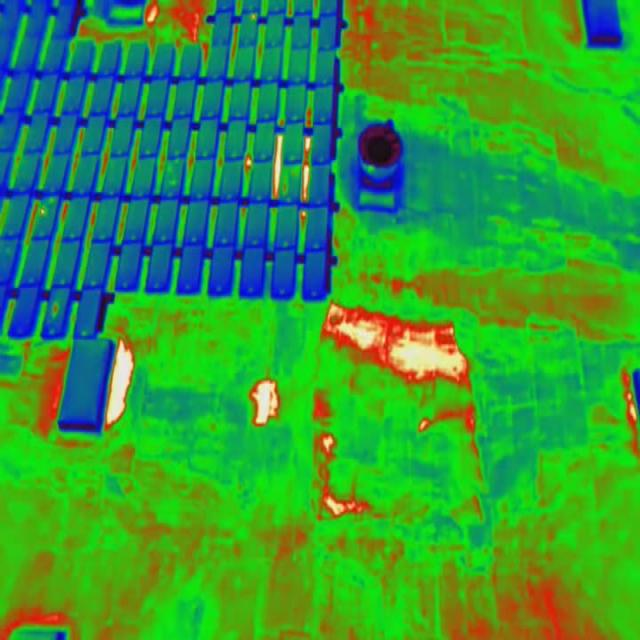Orange-Spots: (282, 176, 287, 196), (52, 302, 58, 318), (40, 208, 46, 216), (252, 14, 256, 22)
